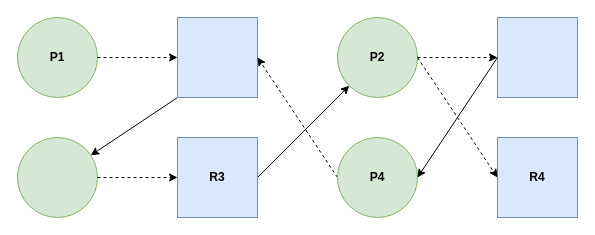
Some shapes in this 595 by 235 pixel diagram are drawn without their labels. Each missing label, with the centre of its shape:
P3: (x=57, y=177)
R1: (x=217, y=57)
R2: (x=537, y=57)
